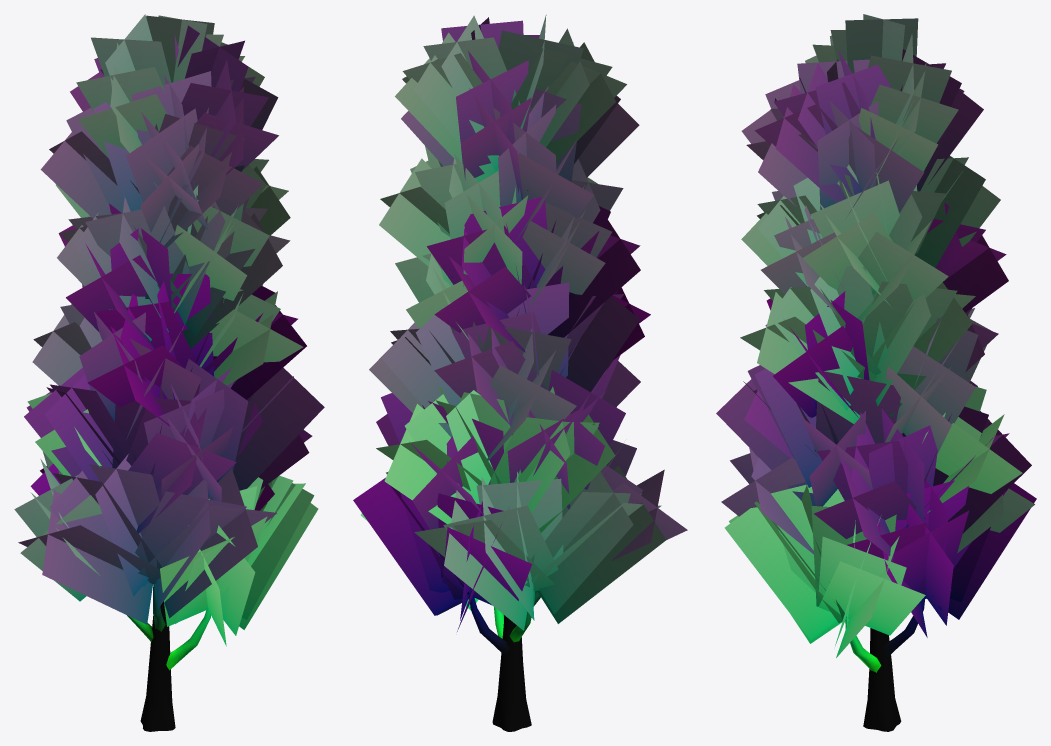
File: Tree_9_5.fbx
3 views of the same model, side by side, from view 1: azimuth 30°, elevation 25°; view 2: azimuth 150°, elevation 25°; view 3: azimuth 270°, elevation 25° (orthographic).
Visible parts, largest first — view 1: _5; view 2: _5; view 3: _5.
Part boxes in pixels (x1,y1,x2,y2): _5: (14,14,324,731); _5: (353,14,687,731); _5: (716,14,1036,731).
Bounding box in the file's own units: 740 × 1650 × 687.
